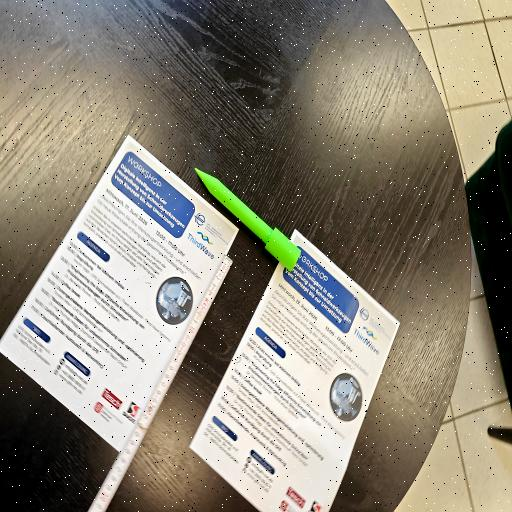Probe-Detection: (195, 168, 300, 270)
